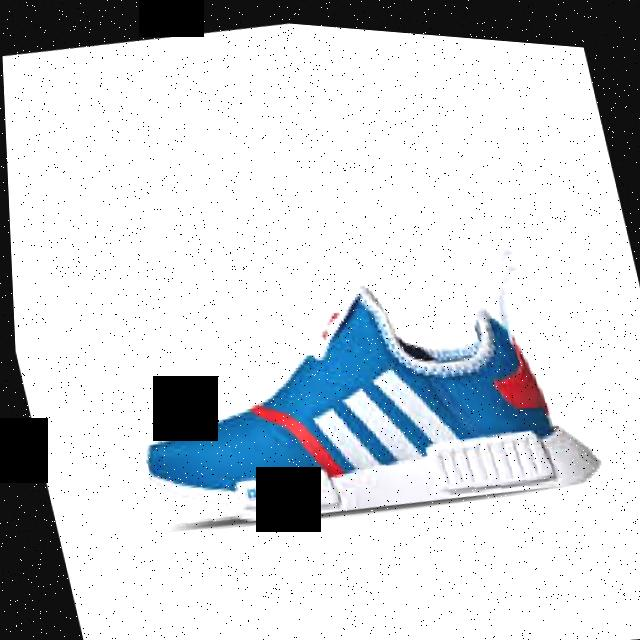shoe: (70, 198, 613, 564)
